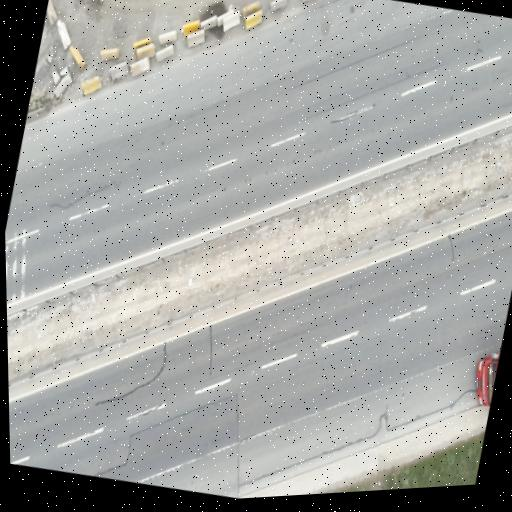truck: (476, 353, 499, 406)
